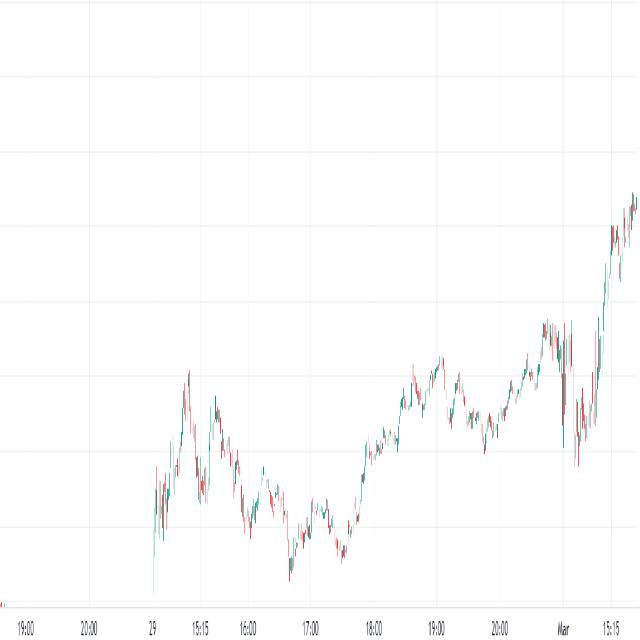Rounding-Bottom: (220, 405, 378, 583), (442, 339, 534, 460)
